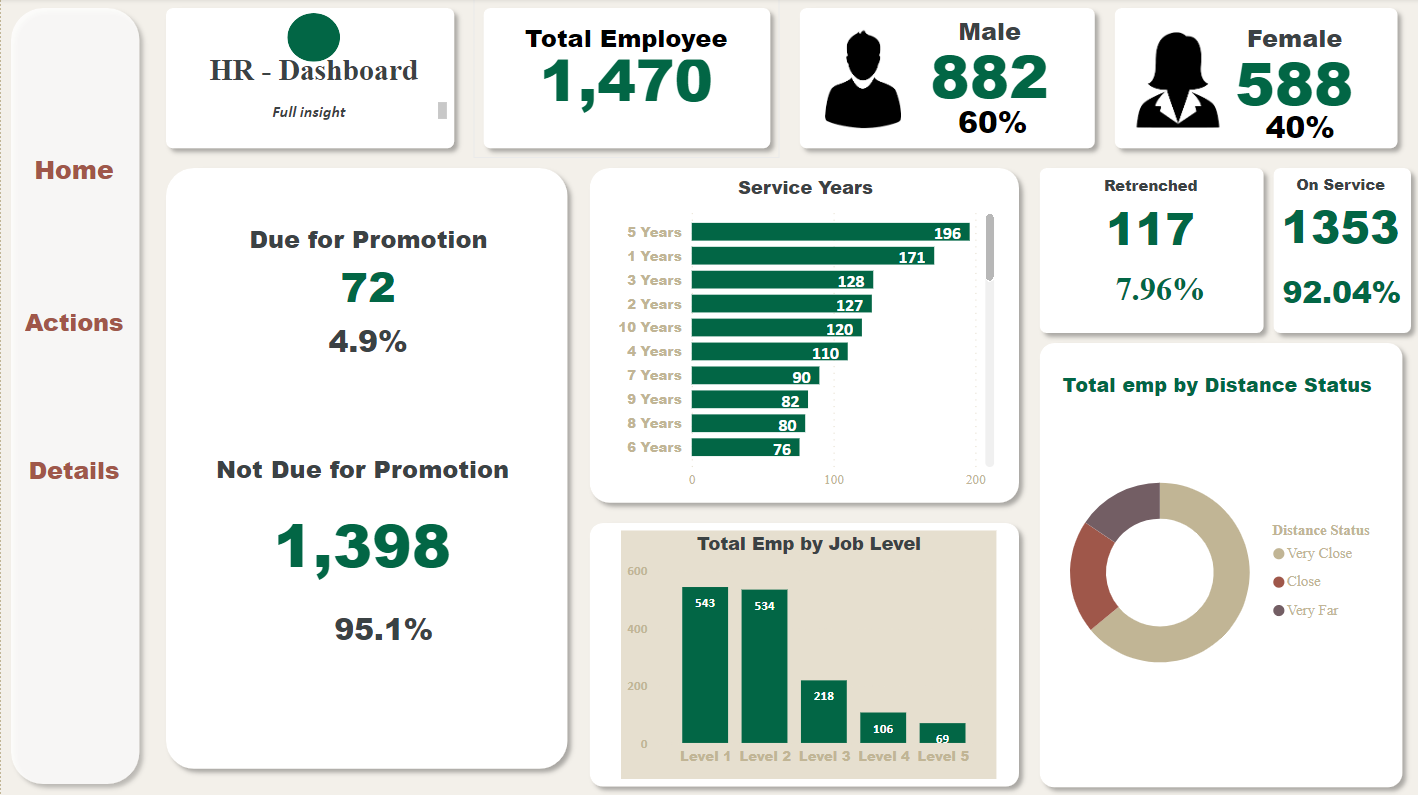

What the dashboard file says about the page in this screenshot:
{"tool":"powerbi","page":{"name":"Home","canvas":[1280,720],"ordinal":0},"visuals":[{"type":"shape","box":[0,0,133.8,717.5],"z":0},{"type":"shape","box":[139.5,0,277.8,144.4],"z":1000},{"type":"shape","box":[425.9,0,276.5,144.4],"z":2000},{"type":"shape","box":[711.1,0,284,144.4],"z":3000},{"type":"shape","box":[995.1,0,272.8,144.4],"z":4000},{"type":"shape","box":[139.9,144.7,379.9,559.6],"z":5000},{"type":"shape","box":[522.2,144.4,404.9,319.8],"z":6000},{"type":"shape","box":[522.2,464.2,404.9,255.6],"z":7000},{"type":"shape","box":[927.2,144.4,219.8,166.7],"z":8000},{"type":"shape","box":[1138.3,144.4,142,166.7],"z":9000},{"type":"shape","box":[927.4,301.5,344.9,418.5],"z":10000},{"type":"textbox","box":[156.5,45.2,250.6,44],"z":11000},{"type":"textbox","box":[216.4,89.2,190.7,25.7],"z":12000},{"type":"shape","box":[257.9,13.4,47.7,44],"z":13000},{"type":"card","title":"Total Employee","fields":{"Values":["All measure's.Tota Emp"]},"box":[458,19.8,212.3,88.9],"z":14000},{"type":"card","title":"Male","fields":{"Values":["All measure's.Male"]},"box":[795.1,13.6,191.4,95.1],"z":15000},{"type":"card","title":"Female","fields":{"Values":["All measure's.Female"]},"box":[1084,19.8,164.2,93.8],"z":16000},{"type":"card","fields":{"Values":["All measure's.% male"]},"box":[817.3,92.6,154.3,40.7],"z":17000},{"type":"card","fields":{"Values":["All measure's.% Female"]},"box":[1102.5,98.8,138.3,35.8],"z":18000},{"type":"image","box":[728.4,23.5,98.8,98.8],"z":19000},{"type":"image","box":[1009.9,22.2,102.5,102.5],"z":20000},{"type":"card","title":"Due for Promotion","fields":{"Values":["All measure's.Due for promotion"]},"box":[216,201.2,229.6,85.2],"z":21000},{"type":"card","fields":{"Values":["All measure's.% Due for promotion"]},"box":[227.4,283.6,206.6,52.6],"z":22000},{"type":"card","title":"Not Due for Promotion","fields":{"Values":["All measure's.Not Due for promotion"]},"box":[178.5,409.5,295.8,133.2],"z":23000},{"type":"card","fields":{"Values":["All measure's.% Not Due for promotion"]},"box":[270.4,533.3,149.4,72.8],"z":24000},{"type":"barChart","title":"Service Years","fields":{"Category":["HR Analytics Data.Service Years"],"Y":["All measure's.Tota Emp"]},"box":[549.4,159.3,350.6,290.1],"z":25000},{"type":"columnChart","title":"Total Emp by Job Level","fields":{"Category":["HR Analytics Data.Job Level"],"Y":["All measure's.Tota Emp"]},"box":[558.6,480.4,338.6,223.7],"z":26000},{"type":"card","title":"On Service","fields":{"Values":["All measure's.On Service"]},"box":[1146.9,159.3,121,74.1],"z":27000},{"type":"card","fields":{"Values":["All measure's.% On Service"]},"box":[1146.9,230.9,123.5,70.4],"z":28000},{"type":"card","title":"Retrenched","fields":{"Values":["All measure's.Will be retrenched"]},"box":[975.5,160.1,121,74.6],"z":29000},{"type":"card","fields":{"Values":["All measure's.% Will be Retreanched"]},"box":[975.5,227.4,138.1,68.5],"z":30000},{"type":"donutChart","title":"Total emp by Distance Status","fields":{"Y":["All measure's.Tota Emp"],"Category":["HR Analytics Data.Distance Status"]},"box":[938.8,336.2,315.4,339.8],"z":31000},{"type":"actionButton","box":[16.2,133.8,100,40],"z":32000},{"type":"actionButton","box":[16.2,271.2,100,40],"z":33000},{"type":"actionButton","box":[16.2,405,100,40],"z":34000}]}

Visuals, with their boxes in screenshot pixels (x1, y1, x2, y2), scaled from the page's 1280x720 canvas onto the 1418x795 screenshot:
shape: bbox=[0, 0, 148, 792]
shape: bbox=[155, 0, 462, 159]
shape: bbox=[472, 0, 778, 159]
shape: bbox=[788, 0, 1102, 159]
shape: bbox=[1102, 0, 1405, 159]
shape: bbox=[155, 160, 576, 778]
shape: bbox=[578, 159, 1027, 513]
shape: bbox=[578, 513, 1027, 794]
shape: bbox=[1027, 159, 1271, 344]
shape: bbox=[1261, 159, 1417, 344]
shape: bbox=[1027, 333, 1409, 794]
textbox: bbox=[173, 50, 451, 98]
textbox: bbox=[240, 98, 451, 127]
shape: bbox=[286, 15, 339, 63]
"Total Employee" card: bbox=[507, 22, 743, 120]
"Male" card: bbox=[881, 15, 1093, 120]
"Female" card: bbox=[1201, 22, 1383, 125]
card - All measure's.% male: bbox=[905, 102, 1076, 147]
card - All measure's.% Female: bbox=[1221, 109, 1375, 149]
image: bbox=[807, 26, 916, 135]
image: bbox=[1119, 25, 1232, 138]
"Due for Promotion" card: bbox=[239, 222, 494, 316]
card - All measure's.% Due for promotion: bbox=[252, 313, 481, 371]
"Not Due for Promotion" card: bbox=[198, 452, 525, 599]
card - All measure's.% Not Due for promotion: bbox=[300, 589, 465, 669]
"Service Years" barChart: bbox=[609, 176, 997, 496]
"Total Emp by Job Level" columnChart: bbox=[619, 530, 994, 777]
"On Service" card: bbox=[1271, 176, 1405, 258]
card - All measure's.% On Service: bbox=[1271, 255, 1407, 333]
"Retrenched" card: bbox=[1081, 177, 1215, 259]
card - All measure's.% Will be Retreanched: bbox=[1081, 251, 1234, 327]
"Total emp by Distance Status" donutChart: bbox=[1040, 371, 1389, 746]
actionButton: bbox=[18, 148, 129, 192]
actionButton: bbox=[18, 299, 129, 344]
actionButton: bbox=[18, 447, 129, 491]
